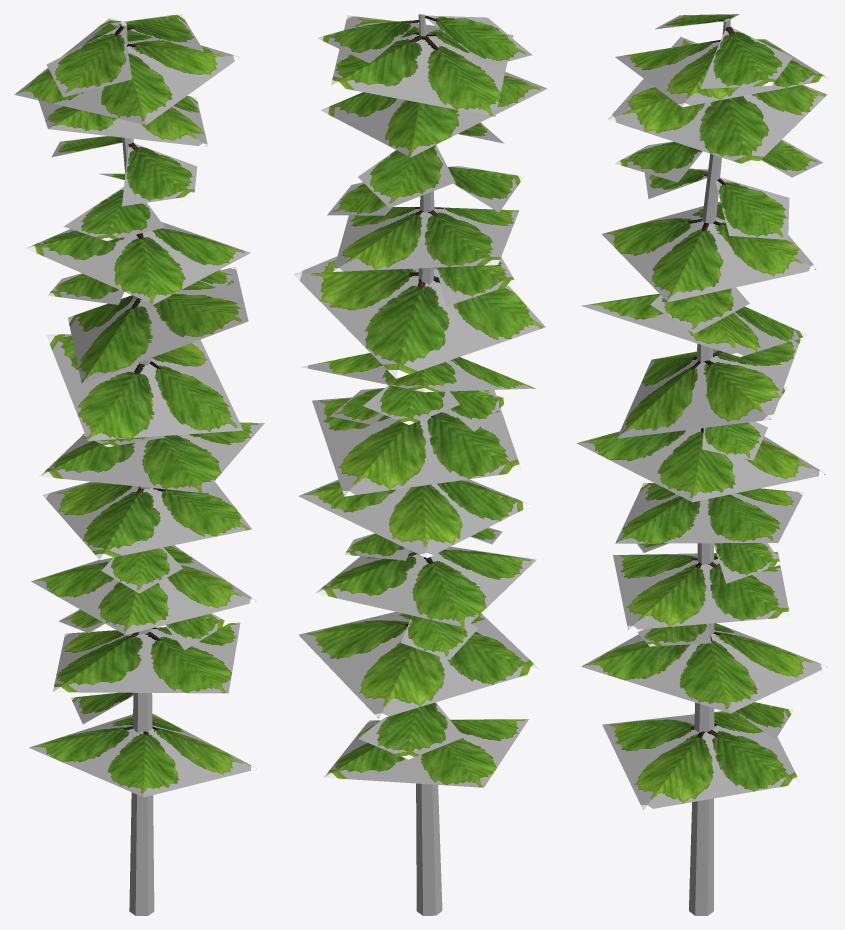
The model's file is D_Plant_014.fbx.
3 renders of one model, left to right at view 1: azimuth 30°, elevation 25°; view 2: azimuth 150°, elevation 25°; view 3: azimuth 270°, elevation 25°, orthographic. The views are drawn at different scales.
Parts seen in each view (by area): view 1: D_Plant_014; view 2: D_Plant_014; view 3: D_Plant_014.
Boxes of the visible parts, x1,y1,x2,y2 form: D_Plant_014: (14, 14, 264, 915); D_Plant_014: (293, 14, 547, 915); D_Plant_014: (576, 14, 830, 915).
Bounding box in the file's own units: 0.4767 × 1.8 × 0.4674.
